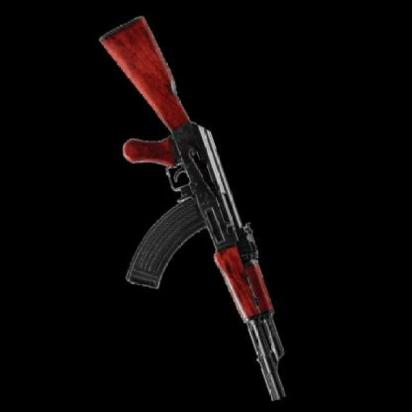Gun: (43, 0, 348, 412)
